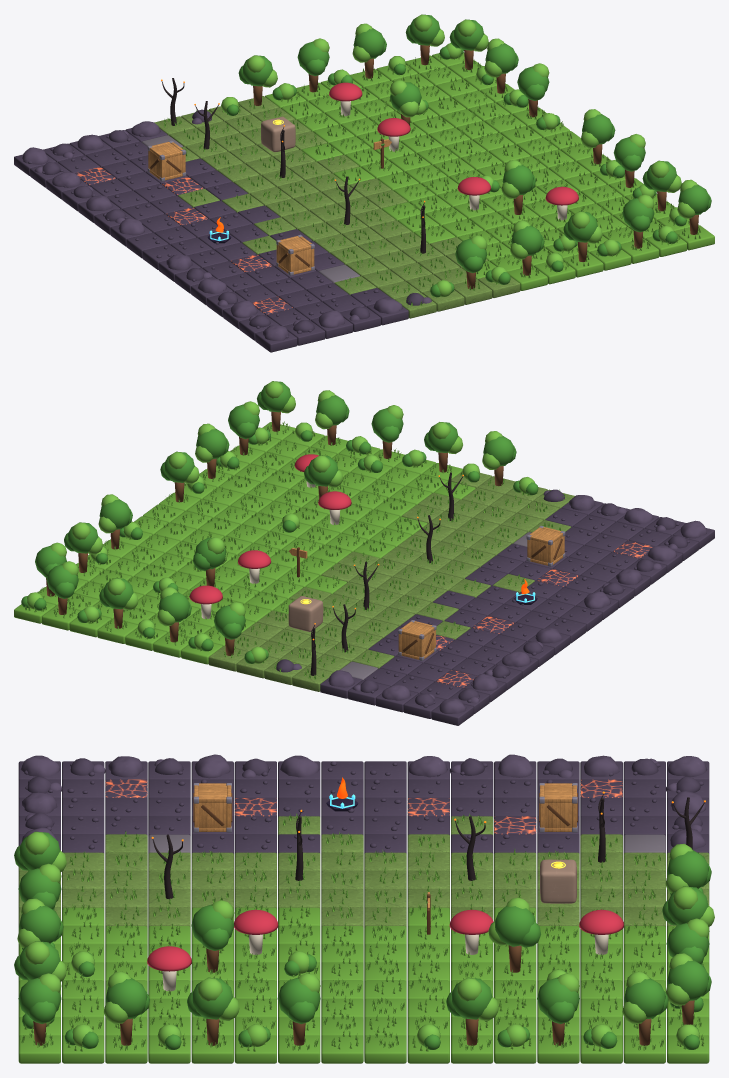
File: trans_vol_forest_01.glb
3 renders of one model, top to bottom at view 1: azimuth 30°, elevation 25°; view 2: azimuth 150°, elevation 25°; view 3: azimuth 270°, elevation 25°, orthographic. The views are drawn at different scales.
Parts seen in each view (by area): view 1: trans_vol_forest_01_crate_wood_3_4, trans_vol_forest_01_crate_wood_3_12, trans_vol_forest_01_for_tree_round_15_12, trans_vol_forest_01_for_tree_round_12_15, trans_vol_forest_01_for_tree_round_9_0, trans_vol_forest_01_for_tree_round_15_6, trans_vol_forest_01_for_tree_round_15_0, trans_vol_forest_01_for_tree_round_11_4, trans_vol_forest_01_for_tree_round_11_0, trans_vol_forest_01_for_tree_round_8_15, trans_vol_forest_01_for_tree_round_14_15, trans_vol_forest_01_for_tree_round_15_2 (+19 smaller); view 2: trans_vol_forest_01_crate_wood_3_4, trans_vol_forest_01_crate_wood_3_12, trans_vol_forest_01_for_tree_round_10_15, trans_vol_forest_01_for_tree_round_13_0, trans_vol_forest_01_for_tree_round_15_4, trans_vol_forest_01_for_tree_round_15_10, trans_vol_forest_01_for_tree_round_7_0, trans_vol_forest_01_for_tree_round_12_15, trans_vol_forest_01_for_tree_round_15_6, trans_vol_forest_01_for_tree_round_15_12, trans_vol_forest_01_for_tree_round_15_0, trans_vol_forest_01_for_tree_round_9_0 (+17 smaller); view 3: trans_vol_forest_01_for_tree_round_11_11, trans_vol_forest_01_for_tree_round_15_14, trans_vol_forest_01_for_tree_round_15_2, trans_vol_forest_01_for_tree_round_15_10, trans_vol_forest_01_for_tree_round_14_15, trans_vol_forest_01_for_tree_round_15_4, trans_vol_forest_01_crate_wood_3_4, trans_vol_forest_01_for_tree_round_15_6, trans_vol_forest_01_for_tree_round_15_0, trans_vol_forest_01_for_tree_round_11_4, trans_vol_forest_01_for_tree_round_15_12, trans_vol_forest_01_crate_wood_3_12 (+215 smaller).
Part boxes in pixels (left/top/right/bottom): trans_vol_forest_01_crate_wood_3_4: left=276, top=234, right=314, bottom=275; trans_vol_forest_01_crate_wood_3_12: left=147, top=140, right=186, bottom=181; trans_vol_forest_01_for_tree_round_15_12: left=484, top=38, right=518, bottom=93; trans_vol_forest_01_for_tree_round_12_15: left=352, top=23, right=386, bottom=78; trans_vol_forest_01_for_tree_round_9_0: left=510, top=220, right=544, bottom=275; trans_vol_forest_01_for_tree_round_15_6: left=581, top=109, right=615, bottom=164; trans_vol_forest_01_for_tree_round_15_0: left=677, top=179, right=711, bottom=234; trans_vol_forest_01_for_tree_round_11_4: left=501, top=160, right=535, bottom=214; trans_vol_forest_01_for_tree_round_11_0: left=563, top=211, right=602, bottom=261; trans_vol_forest_01_for_tree_round_8_15: left=238, top=55, right=277, bottom=105; trans_vol_forest_01_for_tree_round_14_15: left=405, top=14, right=444, bottom=65; trans_vol_forest_01_for_tree_round_15_2: left=642, top=160, right=681, bottom=211; trans_vol_forest_01_crate_wood_3_4: left=526, top=525, right=565, bottom=566; trans_vol_forest_01_crate_wood_3_12: left=398, top=620, right=436, bottom=660; trans_vol_forest_01_for_tree_round_10_15: left=157, top=587, right=191, bottom=642; trans_vol_forest_01_for_tree_round_13_0: left=315, top=390, right=349, bottom=445; trans_vol_forest_01_for_tree_round_15_4: left=195, top=423, right=229, bottom=478; trans_vol_forest_01_for_tree_round_15_10: left=98, top=494, right=132, bottom=549; trans_vol_forest_01_for_tree_round_7_0: left=482, top=431, right=516, bottom=486; trans_vol_forest_01_for_tree_round_12_15: left=99, top=578, right=138, bottom=628; trans_vol_forest_01_for_tree_round_15_6: left=160, top=451, right=199, bottom=502; trans_vol_forest_01_for_tree_round_15_12: left=64, top=522, right=102, bottom=572; trans_vol_forest_01_for_tree_round_15_0: left=257, top=381, right=295, bottom=431; trans_vol_forest_01_for_tree_round_9_0: left=424, top=422, right=462, bottom=472; trans_vol_forest_01_for_tree_round_11_11: left=488, top=897, right=540, bottom=972; trans_vol_forest_01_for_tree_round_15_14: left=622, top=971, right=668, bottom=1045; trans_vol_forest_01_for_tree_round_15_2: left=104, top=971, right=149, bottom=1045; trans_vol_forest_01_for_tree_round_15_10: left=446, top=977, right=498, bottom=1045; trans_vol_forest_01_for_tree_round_14_15: left=665, top=953, right=711, bottom=1024; trans_vol_forest_01_for_tree_round_15_4: left=187, top=977, right=239, bottom=1045; trans_vol_forest_01_crate_wood_3_4: left=193, top=783, right=232, bottom=832; trans_vol_forest_01_for_tree_round_15_6: left=277, top=973, right=320, bottom=1045; trans_vol_forest_01_for_tree_round_15_0: left=18, top=973, right=61, bottom=1045; trans_vol_forest_01_for_tree_round_11_4: left=191, top=900, right=234, bottom=972; trans_vol_forest_01_for_tree_round_15_12: left=537, top=973, right=579, bottom=1045; trans_vol_forest_01_crate_wood_3_12: left=539, top=783, right=577, bottom=832.
Bounding box in the file's own units: 16.09 × 2.05 × 16.22.
24 materials, 7 textured.
